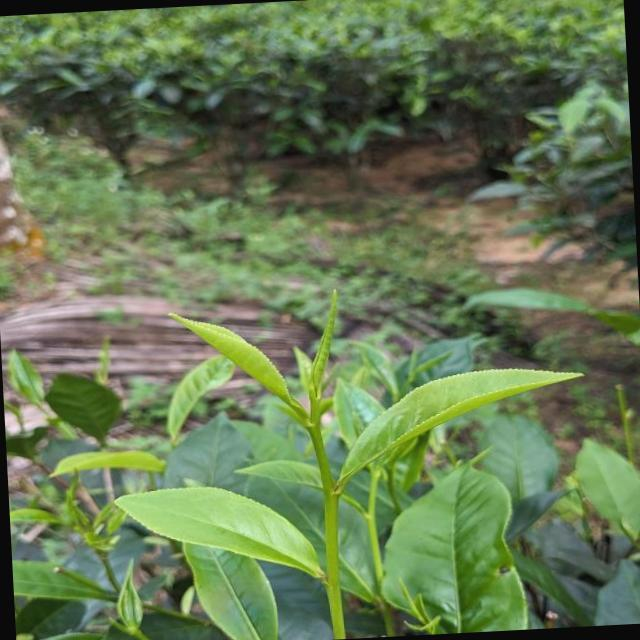Stem: (309, 421, 319, 433)
